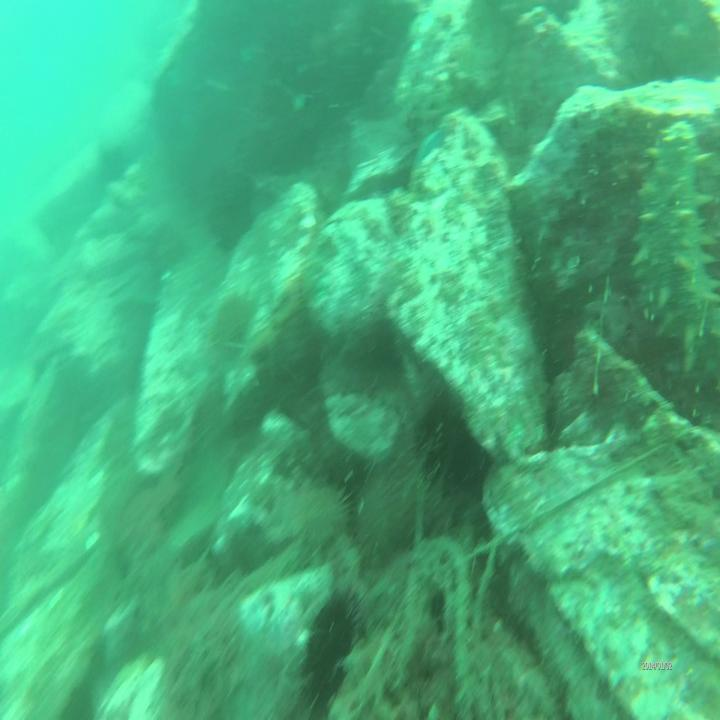echinus: (298, 583, 361, 701), (411, 394, 473, 484), (293, 471, 351, 558), (356, 468, 408, 560)
holothurian: (633, 115, 718, 350)
